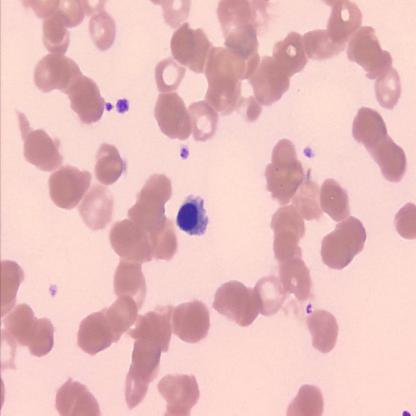NRC: (176, 192, 210, 236)
